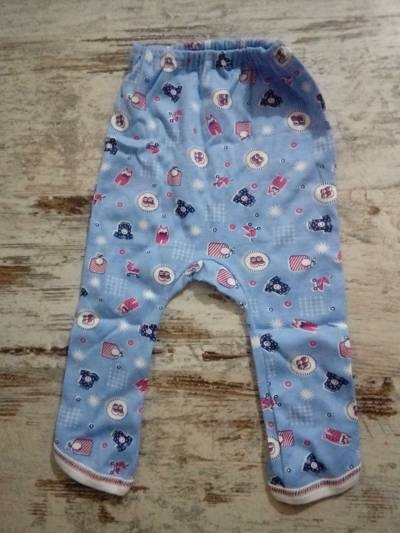Pants: (37, 21, 375, 511)
